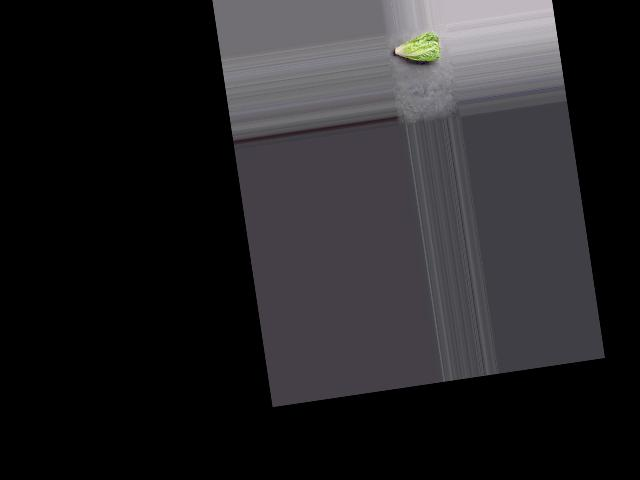lettuce: (389, 29, 442, 68)
